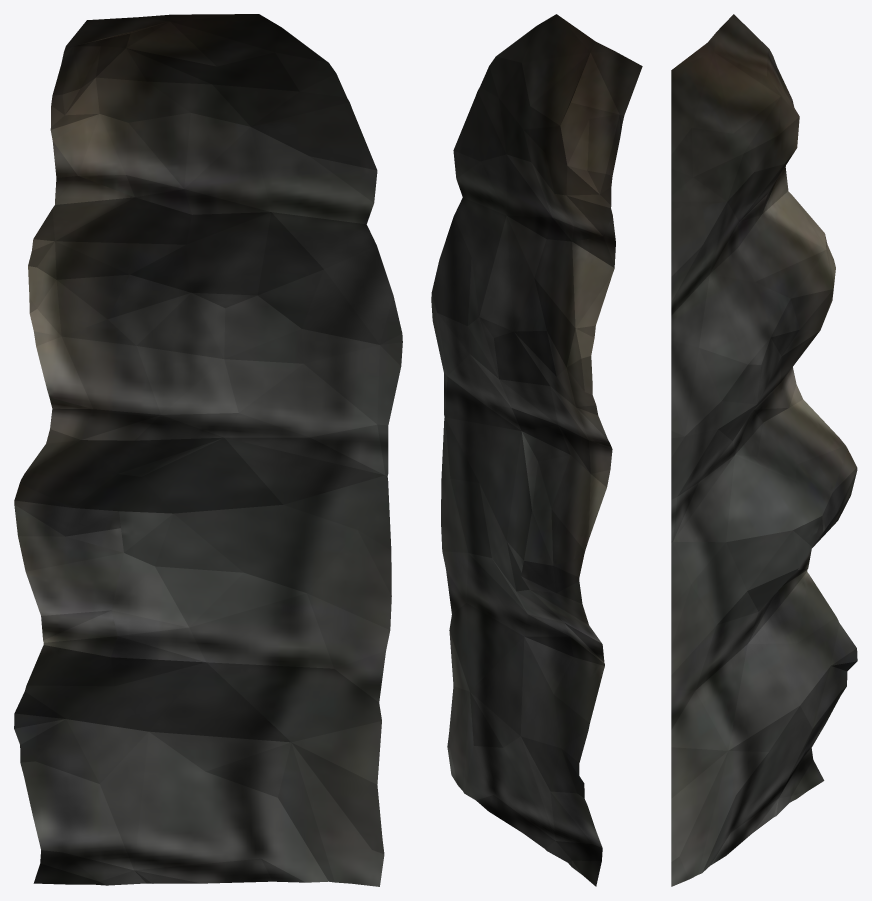
The picture shows the model from 3 angles, left to right: view 1: azimuth 30°, elevation 25°; view 2: azimuth 150°, elevation 25°; view 3: azimuth 270°, elevation 25°; orthographic projection. The views are drawn at different scales.
Size of the model in its own units: 0.2711 by 0.8374 by 0.1843.
1 material, 1 textured.
